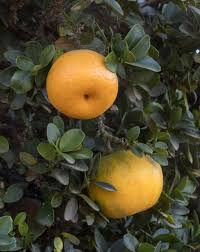orange: (38, 48, 119, 123), (83, 148, 163, 217)
